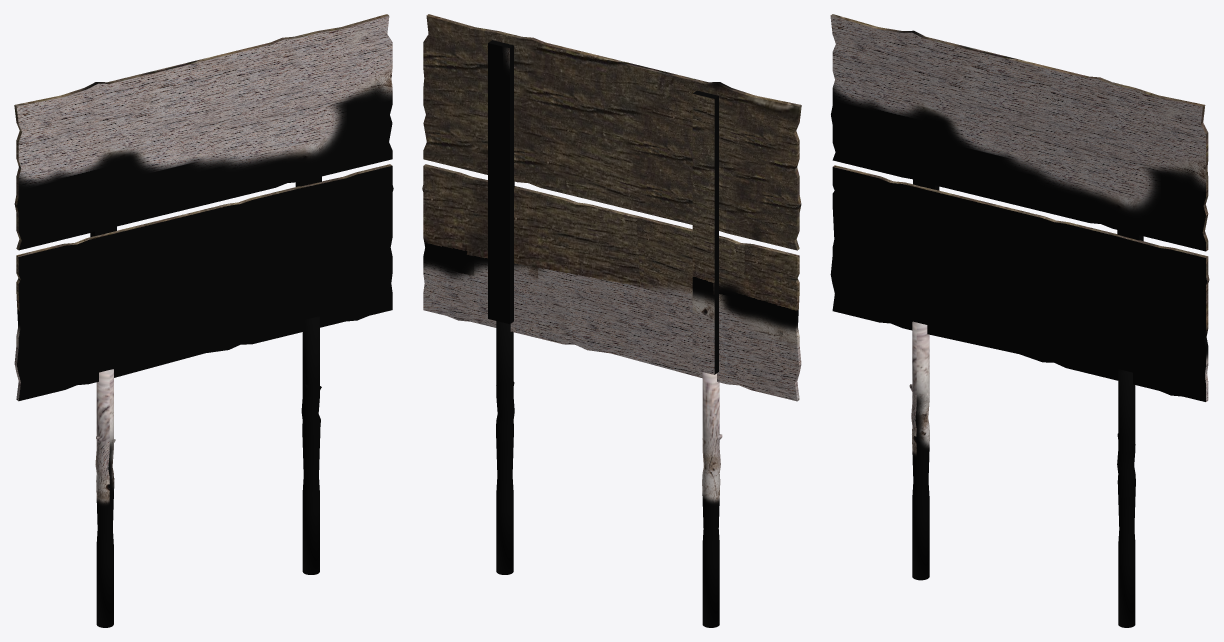
Rendered from Billboard.fbx.
3 renders of one model, left to right at view 1: azimuth 30°, elevation 25°; view 2: azimuth 150°, elevation 25°; view 3: azimuth 330°, elevation 25°, orthographic.
Parts seen in each view (by area): view 1: Cylinder.001; view 2: Cylinder.001; view 3: Cylinder.001.
Boxes of the visible parts, x1,y1,x2,y2 form: Cylinder.001: (14,14,393,627); Cylinder.001: (422,14,801,627); Cylinder.001: (830,14,1209,627).
Size of the model in its own units: 202 by 278 by 9.5.
